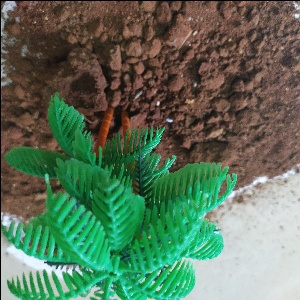plant: (17, 81, 246, 297)
